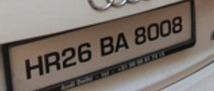0: (159, 18, 172, 37), (147, 21, 159, 41)
2: (60, 46, 78, 70)
6: (77, 41, 93, 63)
8: (134, 26, 147, 45), (171, 15, 184, 34)
A: (115, 31, 130, 52)
B: (99, 36, 114, 57)
H: (24, 55, 45, 80)
R: (43, 51, 62, 75)
